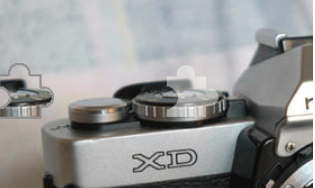target: (162, 61, 225, 128)
